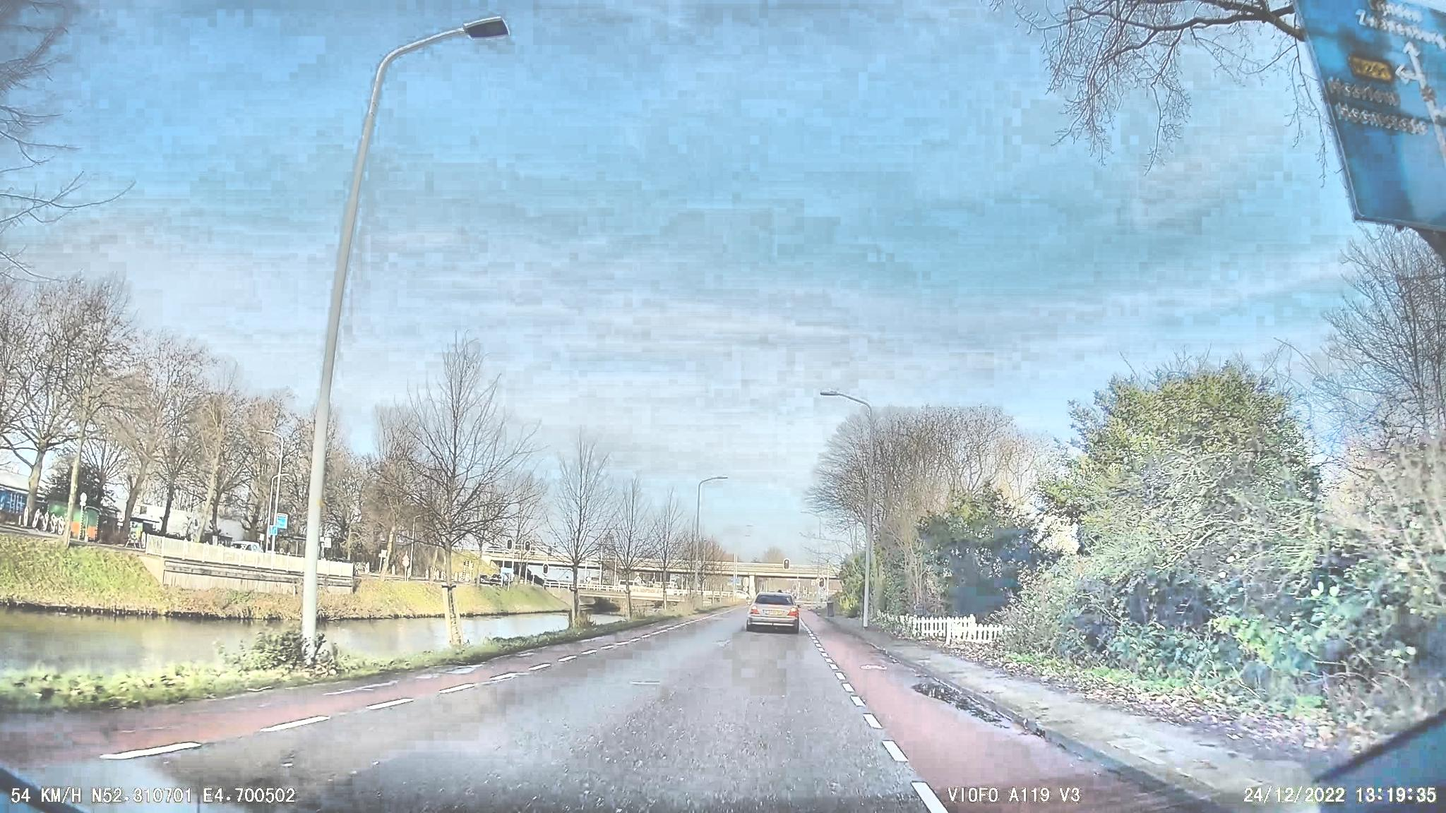Roads: (0, 610, 1220, 813)
